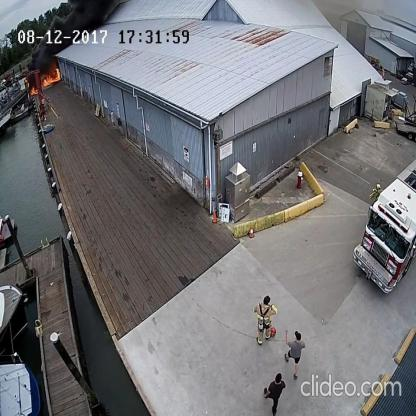fire: (41, 64, 62, 88), (22, 74, 40, 98)
